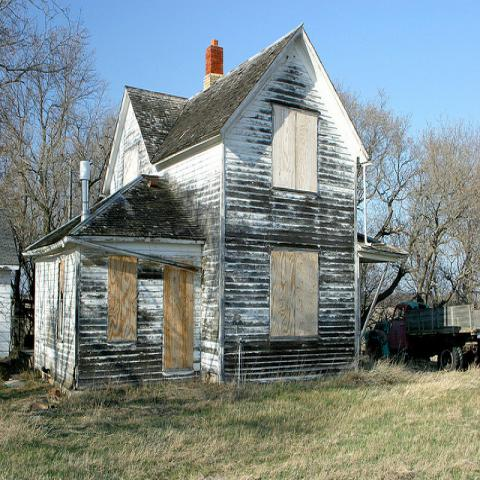truck: (370, 299, 480, 378)
